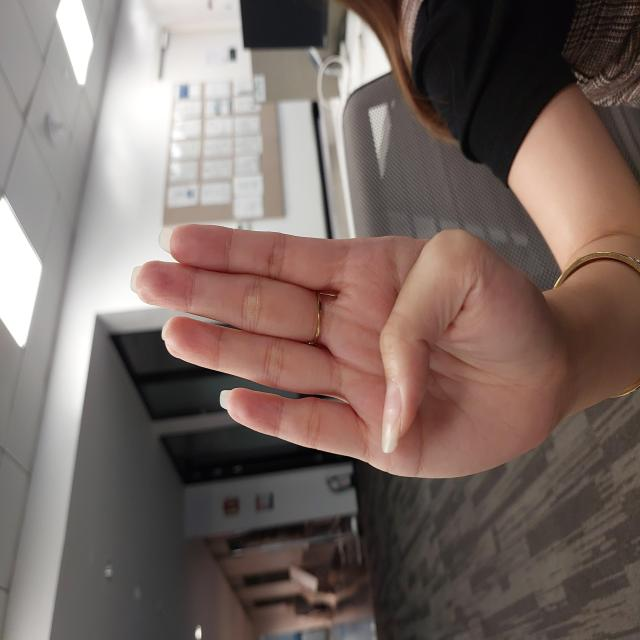B: (159, 129, 418, 571)
